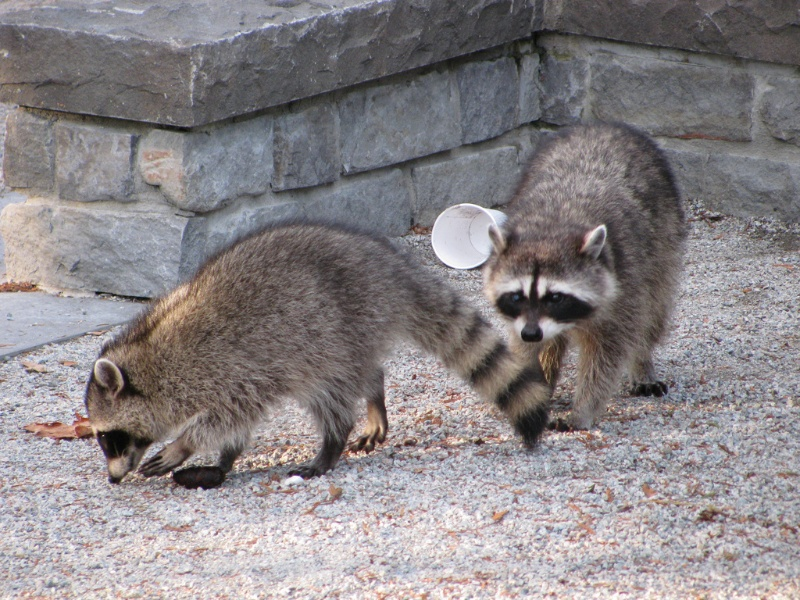raccoon: (81, 216, 551, 501), (482, 122, 688, 435)
